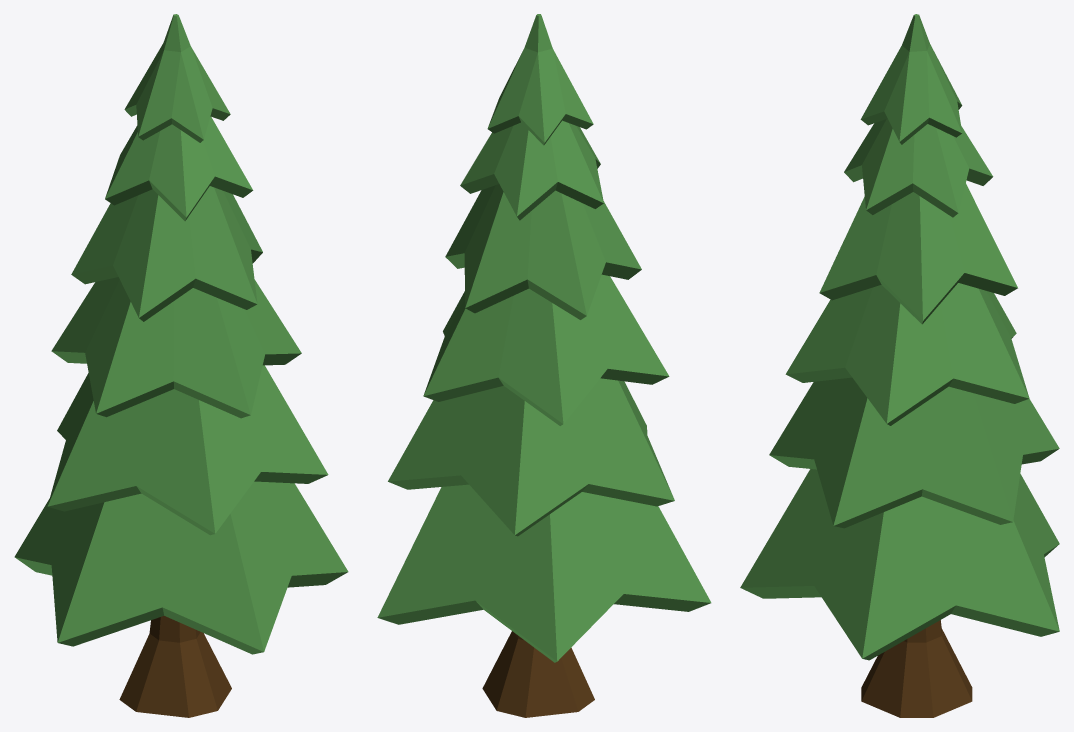
Rendered from Env_Tree02_2.fbx.
The picture shows the model from 3 angles, left to right: view 1: azimuth 30°, elevation 25°; view 2: azimuth 150°, elevation 25°; view 3: azimuth 270°, elevation 25°; orthographic projection.
Visible parts, largest first — view 1: Env_Tree02_2; view 2: Env_Tree02_2; view 3: Env_Tree02_2.
Boxes of the visible parts, left/top/right/bottom form: Env_Tree02_2: left=14, top=14, right=348, bottom=717; Env_Tree02_2: left=377, top=14, right=711, bottom=717; Env_Tree02_2: left=740, top=14, right=1059, bottom=717.
Size of what is drawn, in the model's own units: 204 by 194 by 455.
